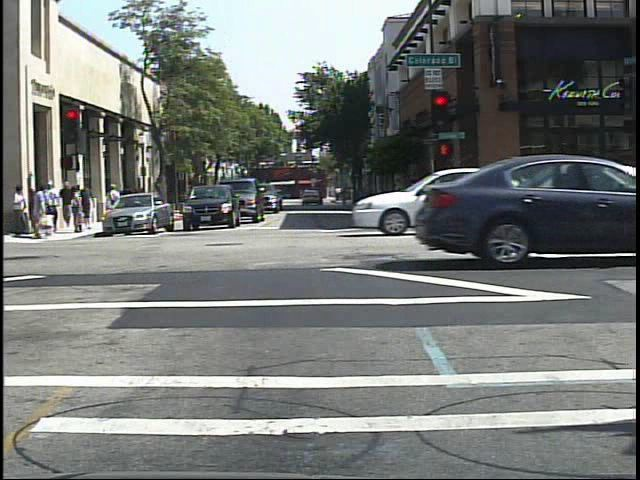person: (104, 179, 124, 224)
